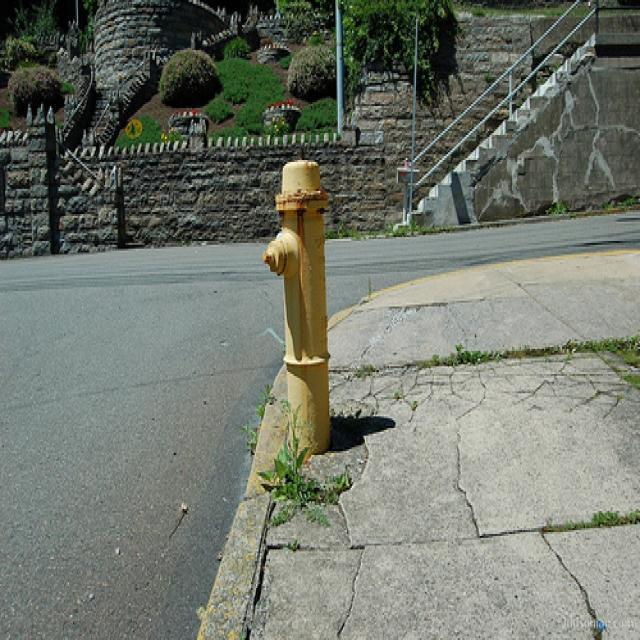fire_hydrant: (257, 152, 333, 466)
